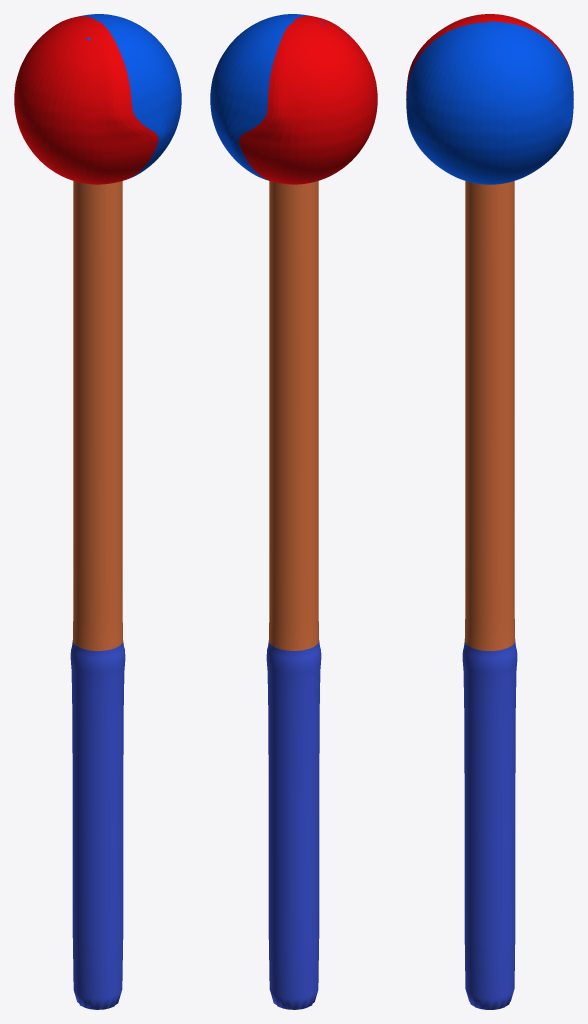
File: Korean Drum Stick.fbx
The picture shows the model from 3 angles, left to right: view 1: azimuth 30°, elevation 25°; view 2: azimuth 150°, elevation 25°; view 3: azimuth 270°, elevation 25°; orthographic projection.
Parts seen in each view (by area): view 1: Stick; view 2: Stick; view 3: Stick.
Boxes of the visible parts, <box> form: Stick: <box>14,14,181,1009</box>; Stick: <box>210,14,377,1009</box>; Stick: <box>406,14,573,1009</box>.
Size of the model in its own units: 8.9 by 57.66 by 8.9.
